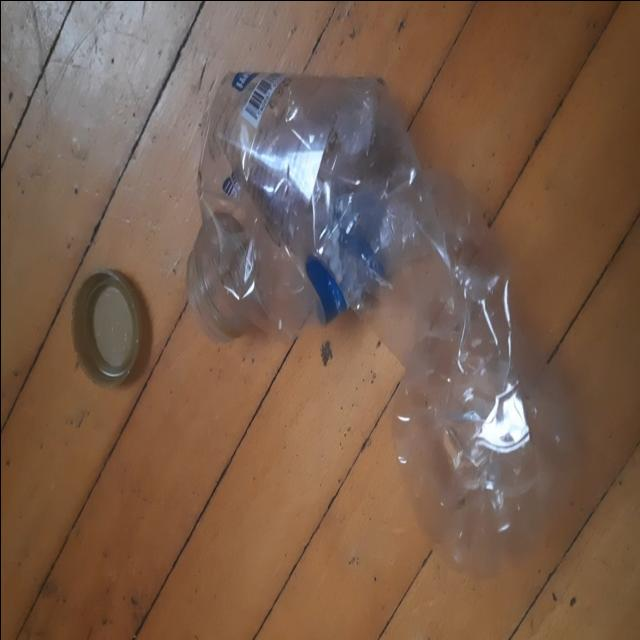Plastic: (187, 69, 550, 579), (70, 265, 150, 386)
